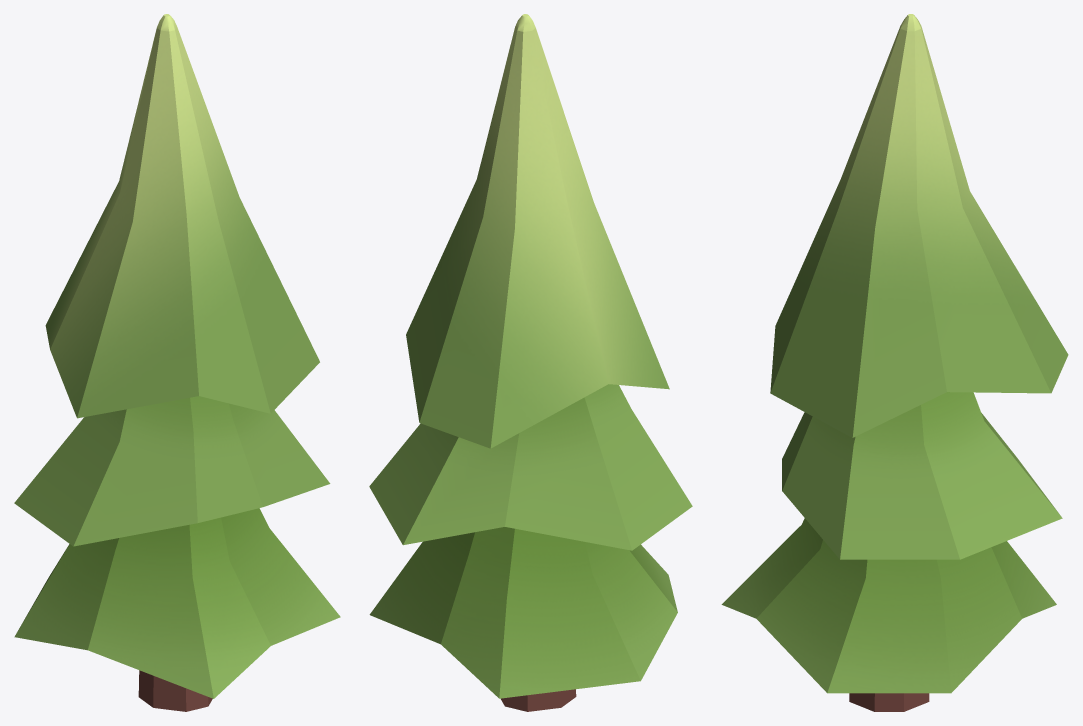
Rendered from Tree_Mesh_03.fbx.
3 renders of one model, left to right at view 1: azimuth 30°, elevation 25°; view 2: azimuth 150°, elevation 25°; view 3: azimuth 270°, elevation 25°, orthographic. The views are drawn at different scales.
Visible parts, largest first — view 1: Tree_03; view 2: Tree_03; view 3: Tree_03.
Part boxes in pixels (<box>): Tree_03: <box>14,14,340,711</box>; Tree_03: <box>369,14,692,711</box>; Tree_03: <box>721,14,1068,711</box>.
Size of the model in its own units: 1.99 by 4.82 by 2.22.
